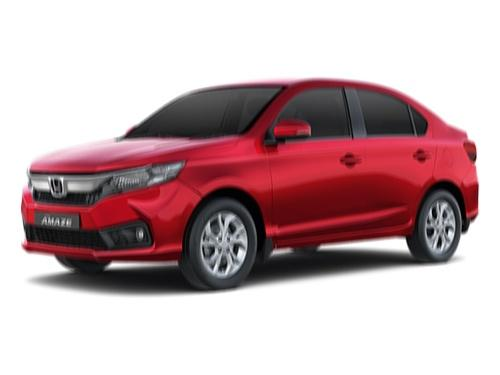Car hood: (26, 131, 241, 174)
Fender - -F-L-: (178, 129, 286, 258)
Fender - -R-L-: (412, 133, 471, 236)
Front bumper: (13, 180, 206, 264)
Headlight - -L-: (105, 155, 197, 196)
Headlight - -R-: (19, 157, 43, 196)
Passenger-s door - -F-L-: (266, 71, 369, 241)
Passenger-s door - -R-L-: (353, 76, 441, 232)
Rear bumper: (459, 158, 486, 236)
Rear light - -L-: (457, 130, 484, 170)
Side bumper - -L-: (255, 219, 418, 253)
Side mirror - -L-: (265, 112, 311, 154)
